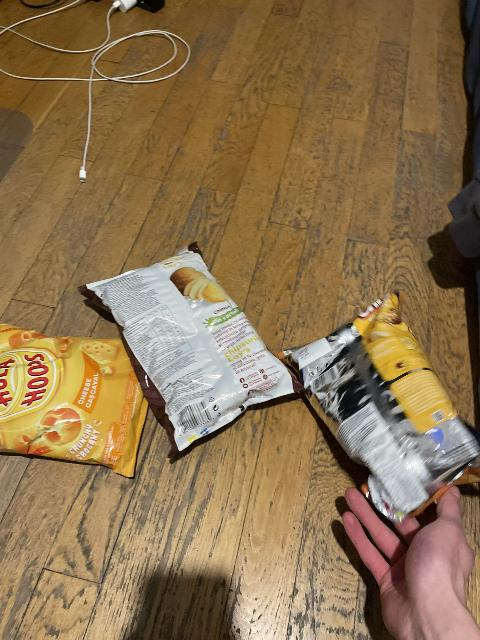Chio Cascaval 125g: (274, 291, 478, 517)
Chio Hula Hoops Cheese 70g: (0, 327, 148, 478)
Lays Beef Grilled Ribs 125g: (74, 239, 310, 447)
